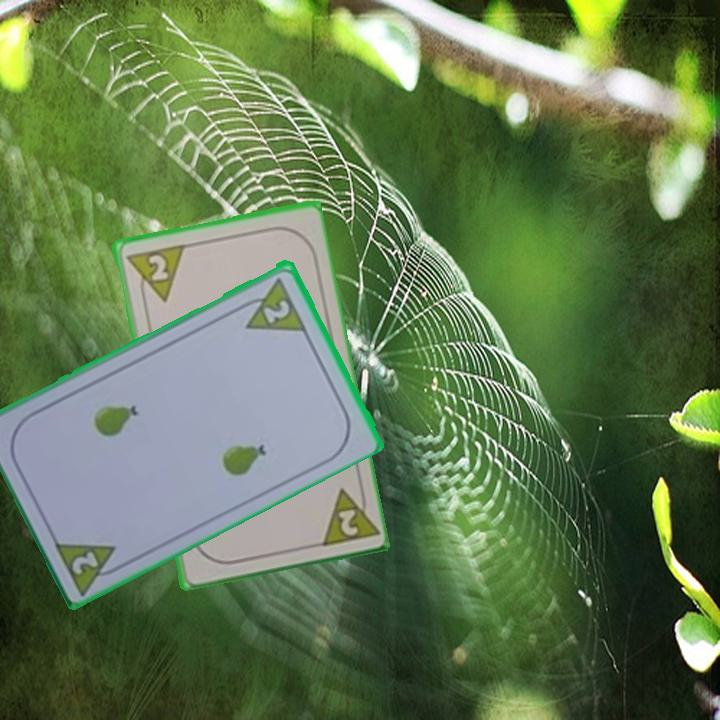2p: (50, 536, 129, 596), (233, 272, 309, 334), (314, 480, 379, 549), (122, 240, 187, 308)
